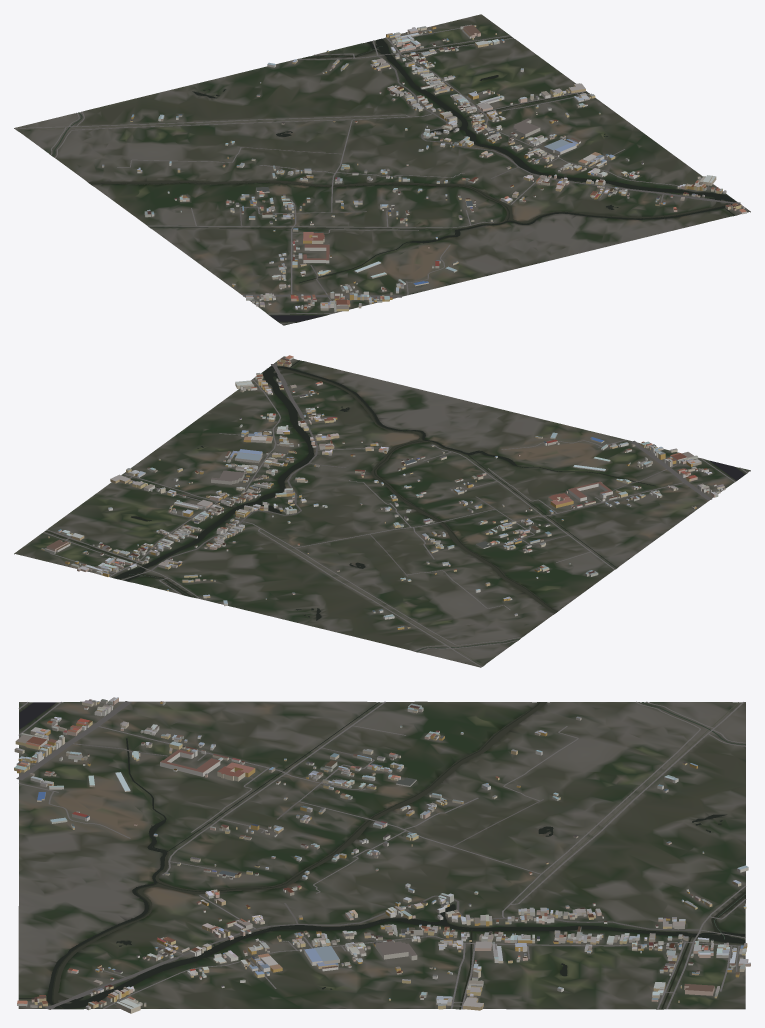
3 renders of one model, top to bottom at view 1: azimuth 30°, elevation 25°; view 2: azimuth 150°, elevation 25°; view 3: azimuth 270°, elevation 25°, orthographic. The views are drawn at different scales.
Visible parts, largest first — view 1: ground, buildings, water, roads; view 2: ground, buildings, water, roads; view 3: ground, buildings, water, roads.
Boxes of the visible parts, <box> form: ground: <box>14,14,750,325</box>; buildings: <box>102,24,746,312</box>; water: <box>17,37,736,321</box>; roads: <box>15,28,740,323</box>; ground: <box>14,356,750,667</box>; buildings: <box>41,355,725,629</box>; water: <box>45,360,744,665</box>; roads: <box>43,363,747,667</box>; ground: <box>18,701,745,1009</box>; buildings: <box>14,697,750,1013</box>; water: <box>18,702,745,1009</box>; roads: <box>16,701,746,1009</box>.
Bounding box in the file's own units: 1429 × 22.07 × 1420.
